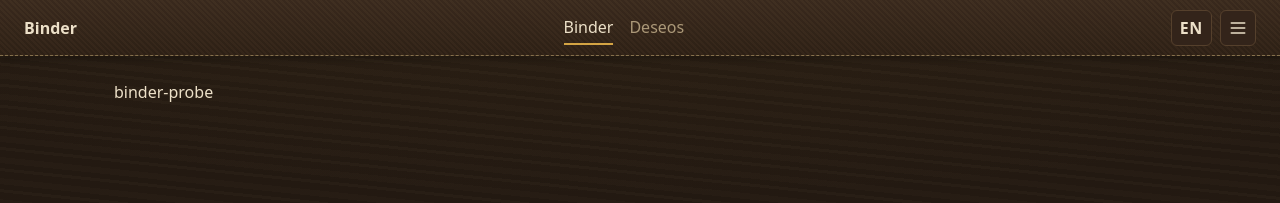
Test: AppLayout user menu › offers sign-in instead of account items when signed out
The image size is (1280, 203).
Click the button named "Menú": (1238, 28) x1=1220 y1=10 x2=1256 y2=46
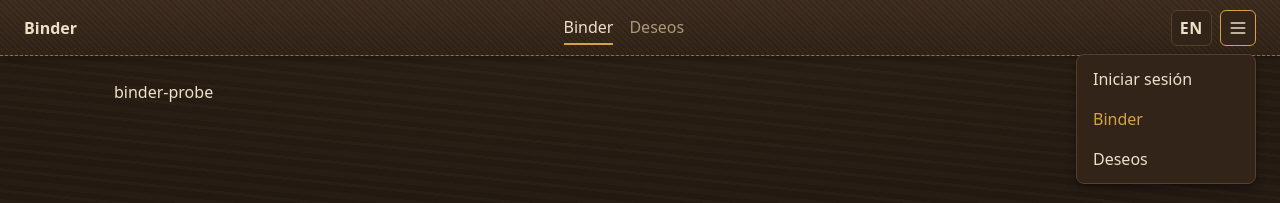
Click the menu item "Iniciar sesión": (1142, 78) x1=1093 y1=68 x2=1192 y2=90
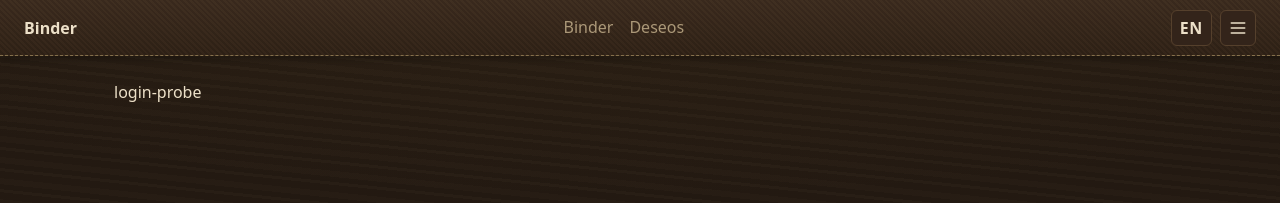
Check: the text "login-probe" is shown, box x1=114 y1=81 x2=202 y2=103
